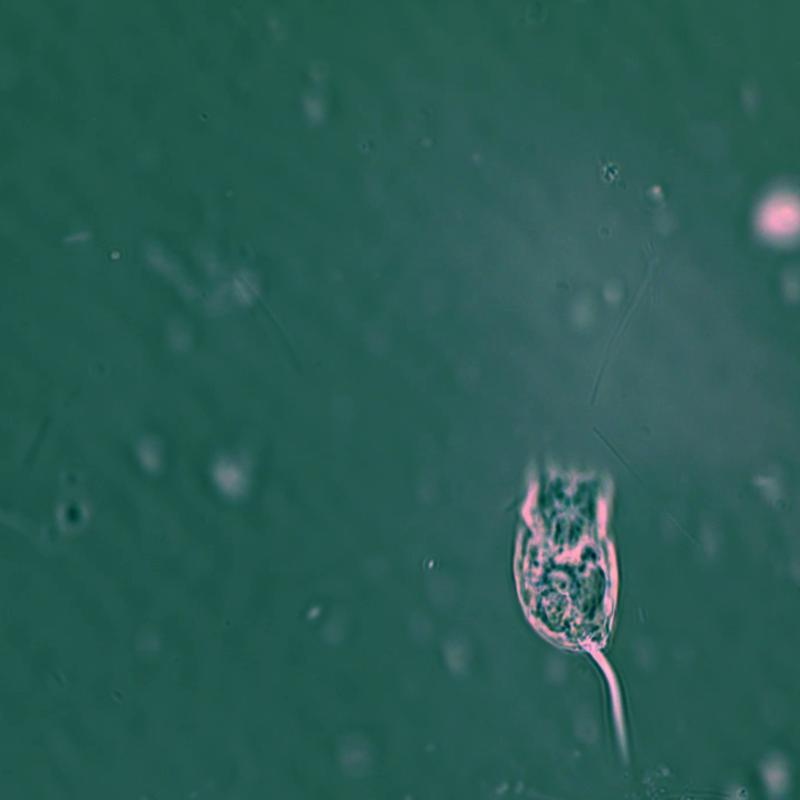depth:0: (506, 401, 673, 777)
